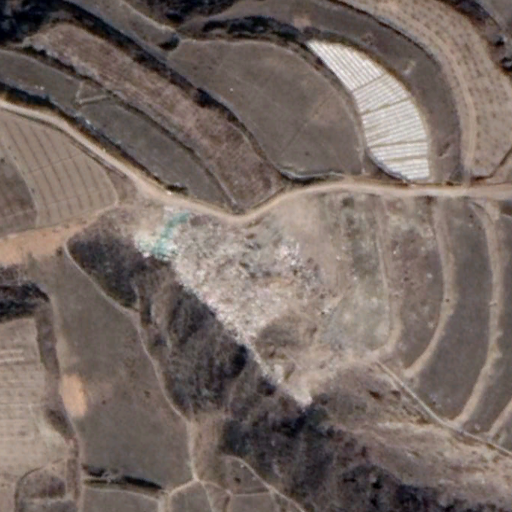msw: (133, 210, 329, 328)
